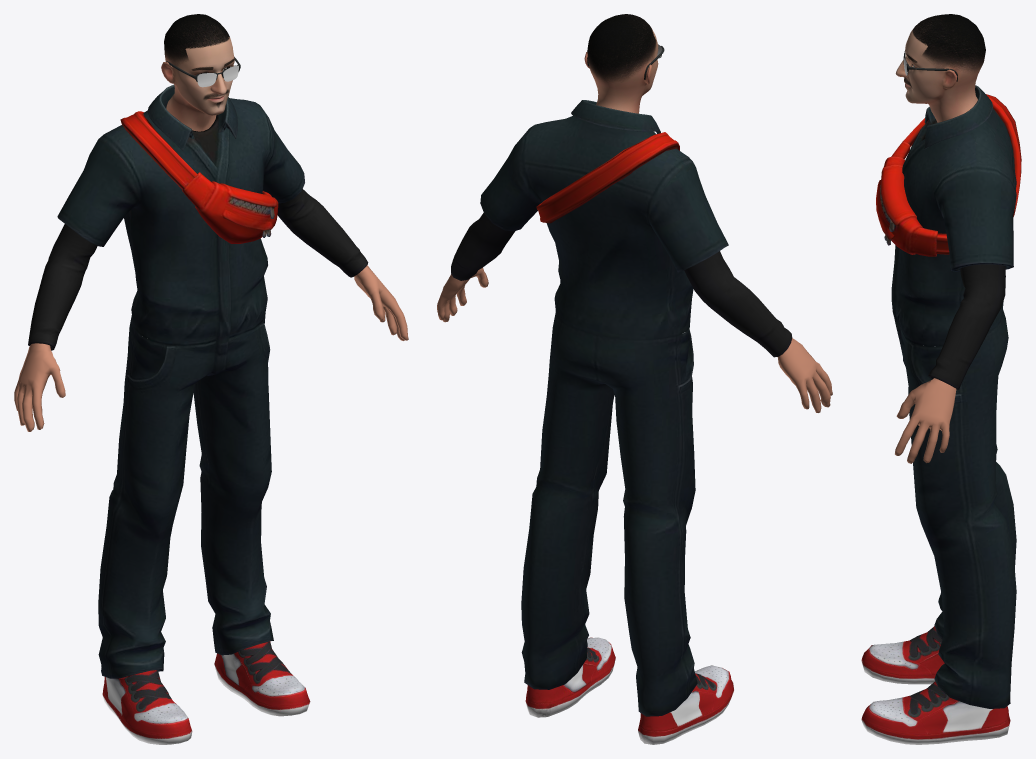
Rendered from modelo.gltf.
3 renders of one model, left to right at view 1: azimuth 30°, elevation 25°; view 2: azimuth 150°, elevation 25°; view 3: azimuth 270°, elevation 25°, orthographic.
Parts seen in each view (by area): view 1: Wolf3D_Outfit_Top, Wolf3D_Outfit_Bottom, Wolf3D_Outfit_Footwear, Wolf3D_Head, Wolf3D_Body; view 2: Wolf3D_Outfit_Bottom, Wolf3D_Outfit_Top, Wolf3D_Outfit_Footwear, Wolf3D_Head, Wolf3D_Body; view 3: Wolf3D_Outfit_Top, Wolf3D_Outfit_Bottom, Wolf3D_Outfit_Footwear, Wolf3D_Head, Wolf3D_Body.
Part boxes in pixels (x1,y1,x2,y2): Wolf3D_Outfit_Top: (28, 84, 368, 350); Wolf3D_Outfit_Bottom: (98, 313, 273, 678); Wolf3D_Outfit_Footwear: (102, 641, 310, 744); Wolf3D_Head: (161, 14, 234, 131); Wolf3D_Body: (14, 265, 408, 431); Wolf3D_Outfit_Bottom: (521, 312, 697, 716); Wolf3D_Outfit_Top: (451, 100, 792, 357); Wolf3D_Outfit_Footwear: (525, 637, 733, 744); Wolf3D_Head: (584, 14, 658, 113); Wolf3D_Body: (437, 267, 832, 412); Wolf3D_Outfit_Top: (876, 85, 1021, 389); Wolf3D_Outfit_Bottom: (895, 309, 1016, 708); Wolf3D_Outfit_Footwear: (861, 626, 1010, 744); Wolf3D_Head: (895, 14, 985, 122); Wolf3D_Body: (895, 378, 956, 463).
Size of the model in its own units: 1.06 by 1.83 by 0.3862.
Materials: 9 (9 with a texture image).
